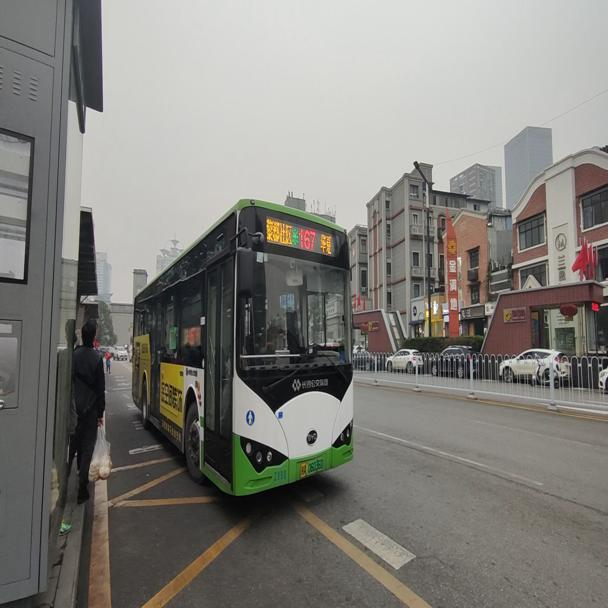bus: (129, 195, 355, 501)
screen: (298, 225, 315, 251)
